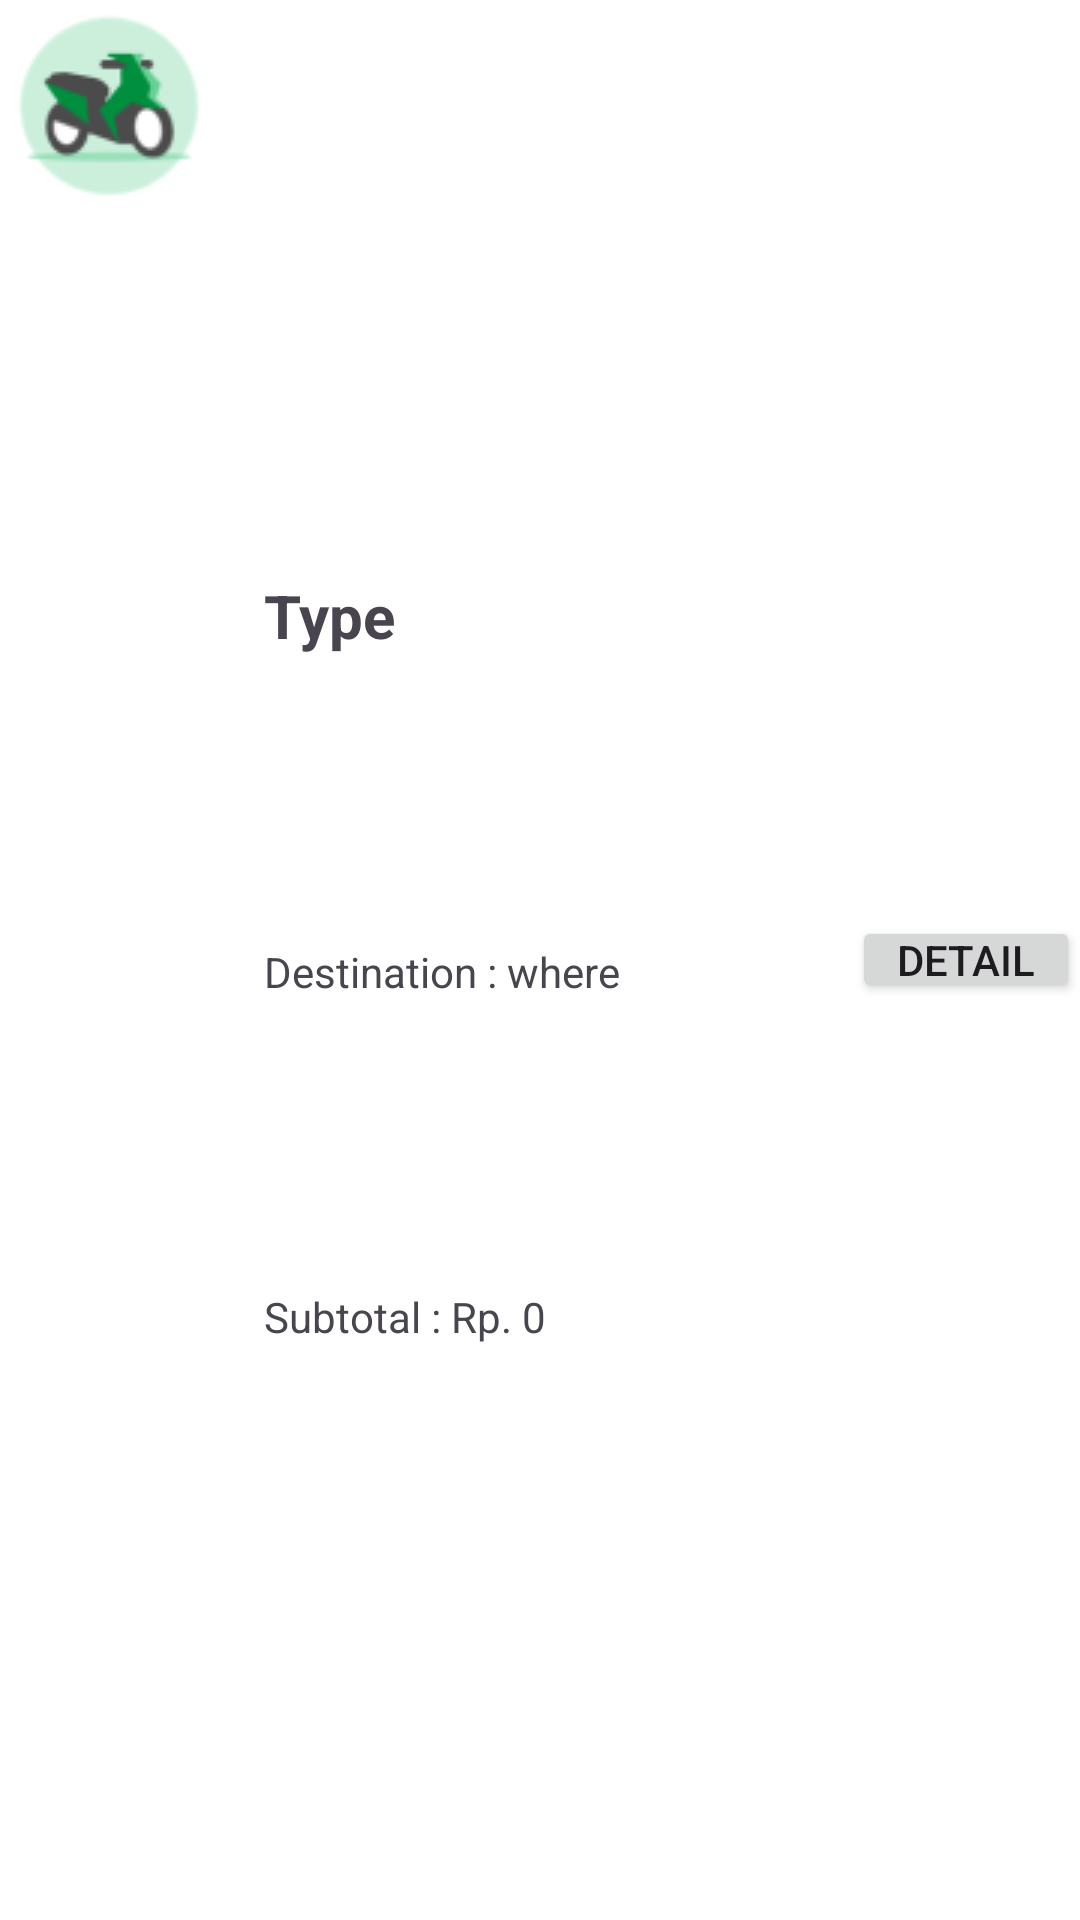

Icons on this 1080×1920 Android screen, each with its box as (x1, y1, x2, y2):
bike: (21, 18, 198, 195)
